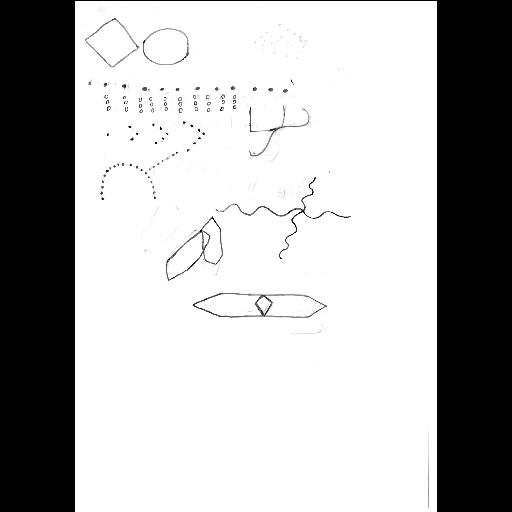shape-1: (85, 16, 191, 68)
shape-2: (87, 75, 289, 93)
shape-3: (105, 92, 237, 112)
shape-4: (104, 118, 208, 152)
shape-5: (248, 102, 312, 156)
shape-6: (101, 150, 177, 202)
shape-7: (214, 176, 352, 258)
shape-8: (164, 216, 224, 282)
shape-9: (192, 290, 328, 320)
